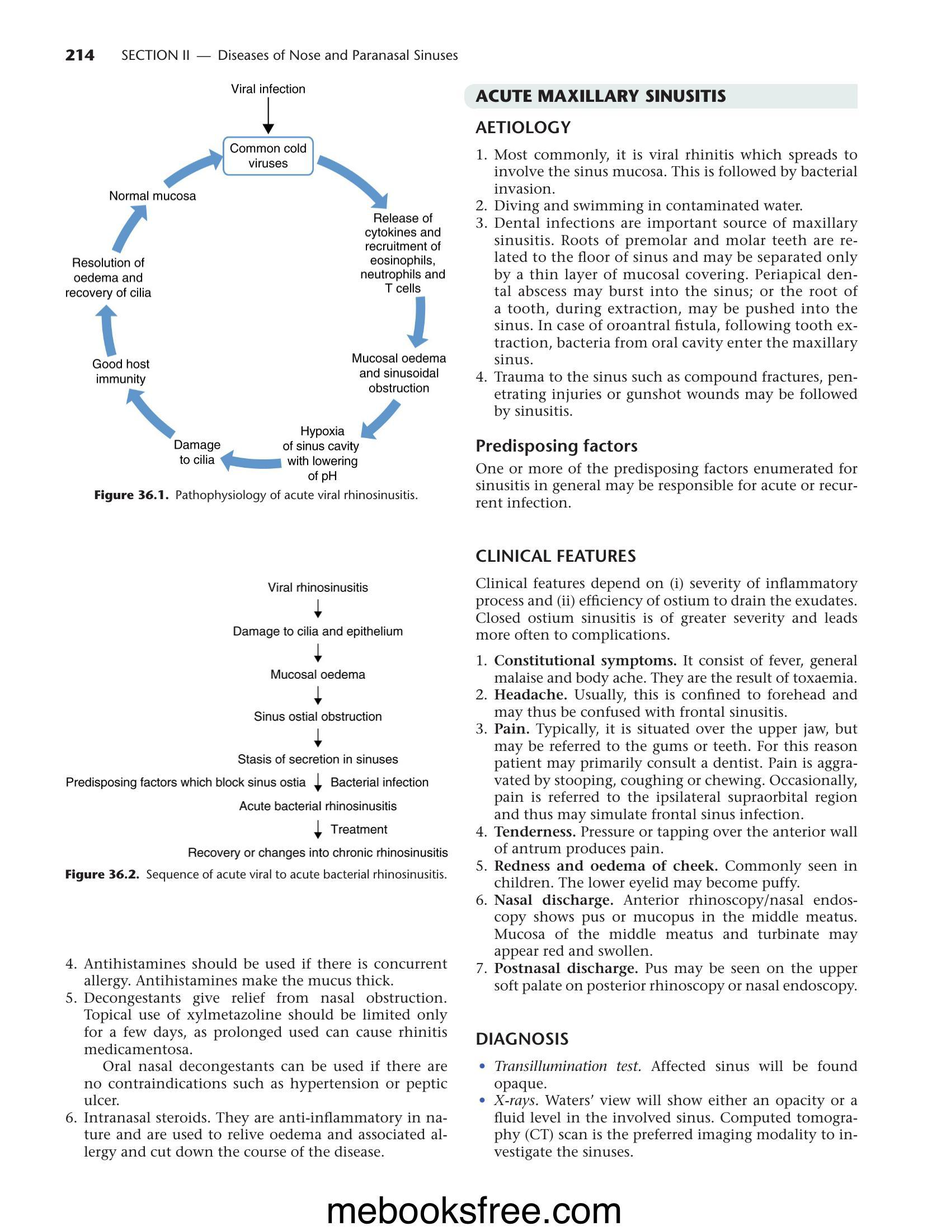caption: (63, 868, 448, 883), (93, 488, 420, 503)
header: (120, 48, 459, 61)
image: (51, 72, 462, 486), (55, 575, 454, 864)
list: (474, 653, 859, 997), (474, 147, 859, 419), (64, 956, 449, 1161), (478, 1058, 859, 1162)
section-heading: (474, 88, 727, 104)
sub-section-heading: (475, 437, 639, 458), (475, 547, 637, 562), (474, 1030, 569, 1047), (474, 120, 573, 134)
text: (474, 576, 858, 644), (475, 461, 863, 510)
